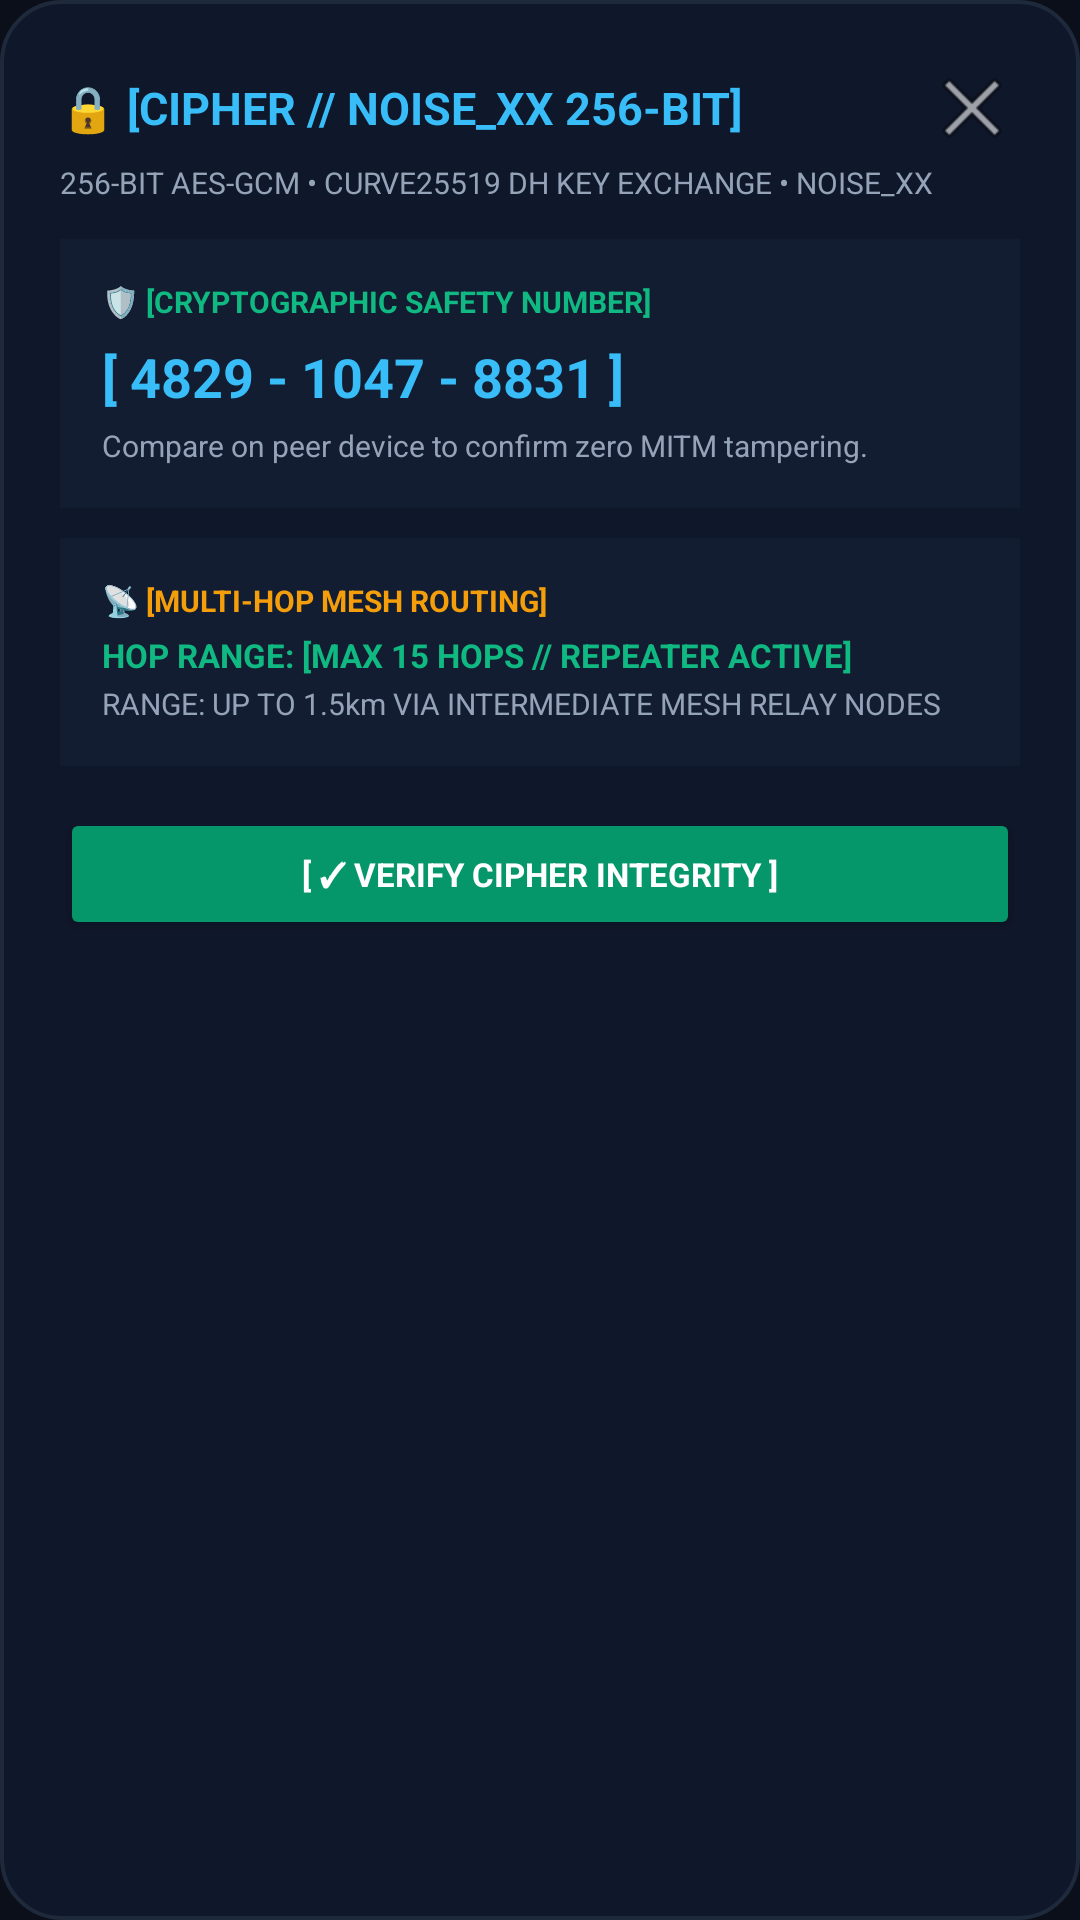

Where icons sit on this 1080w x 1920h app screen, as detection(x1, y1, x2, y2):
Close: detection(945, 81, 999, 135)
